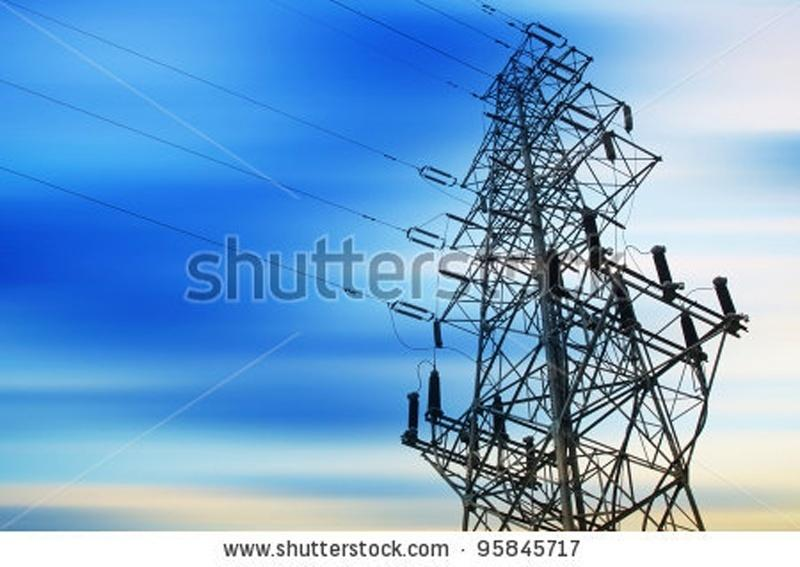power_tower: (393, 17, 719, 525)
